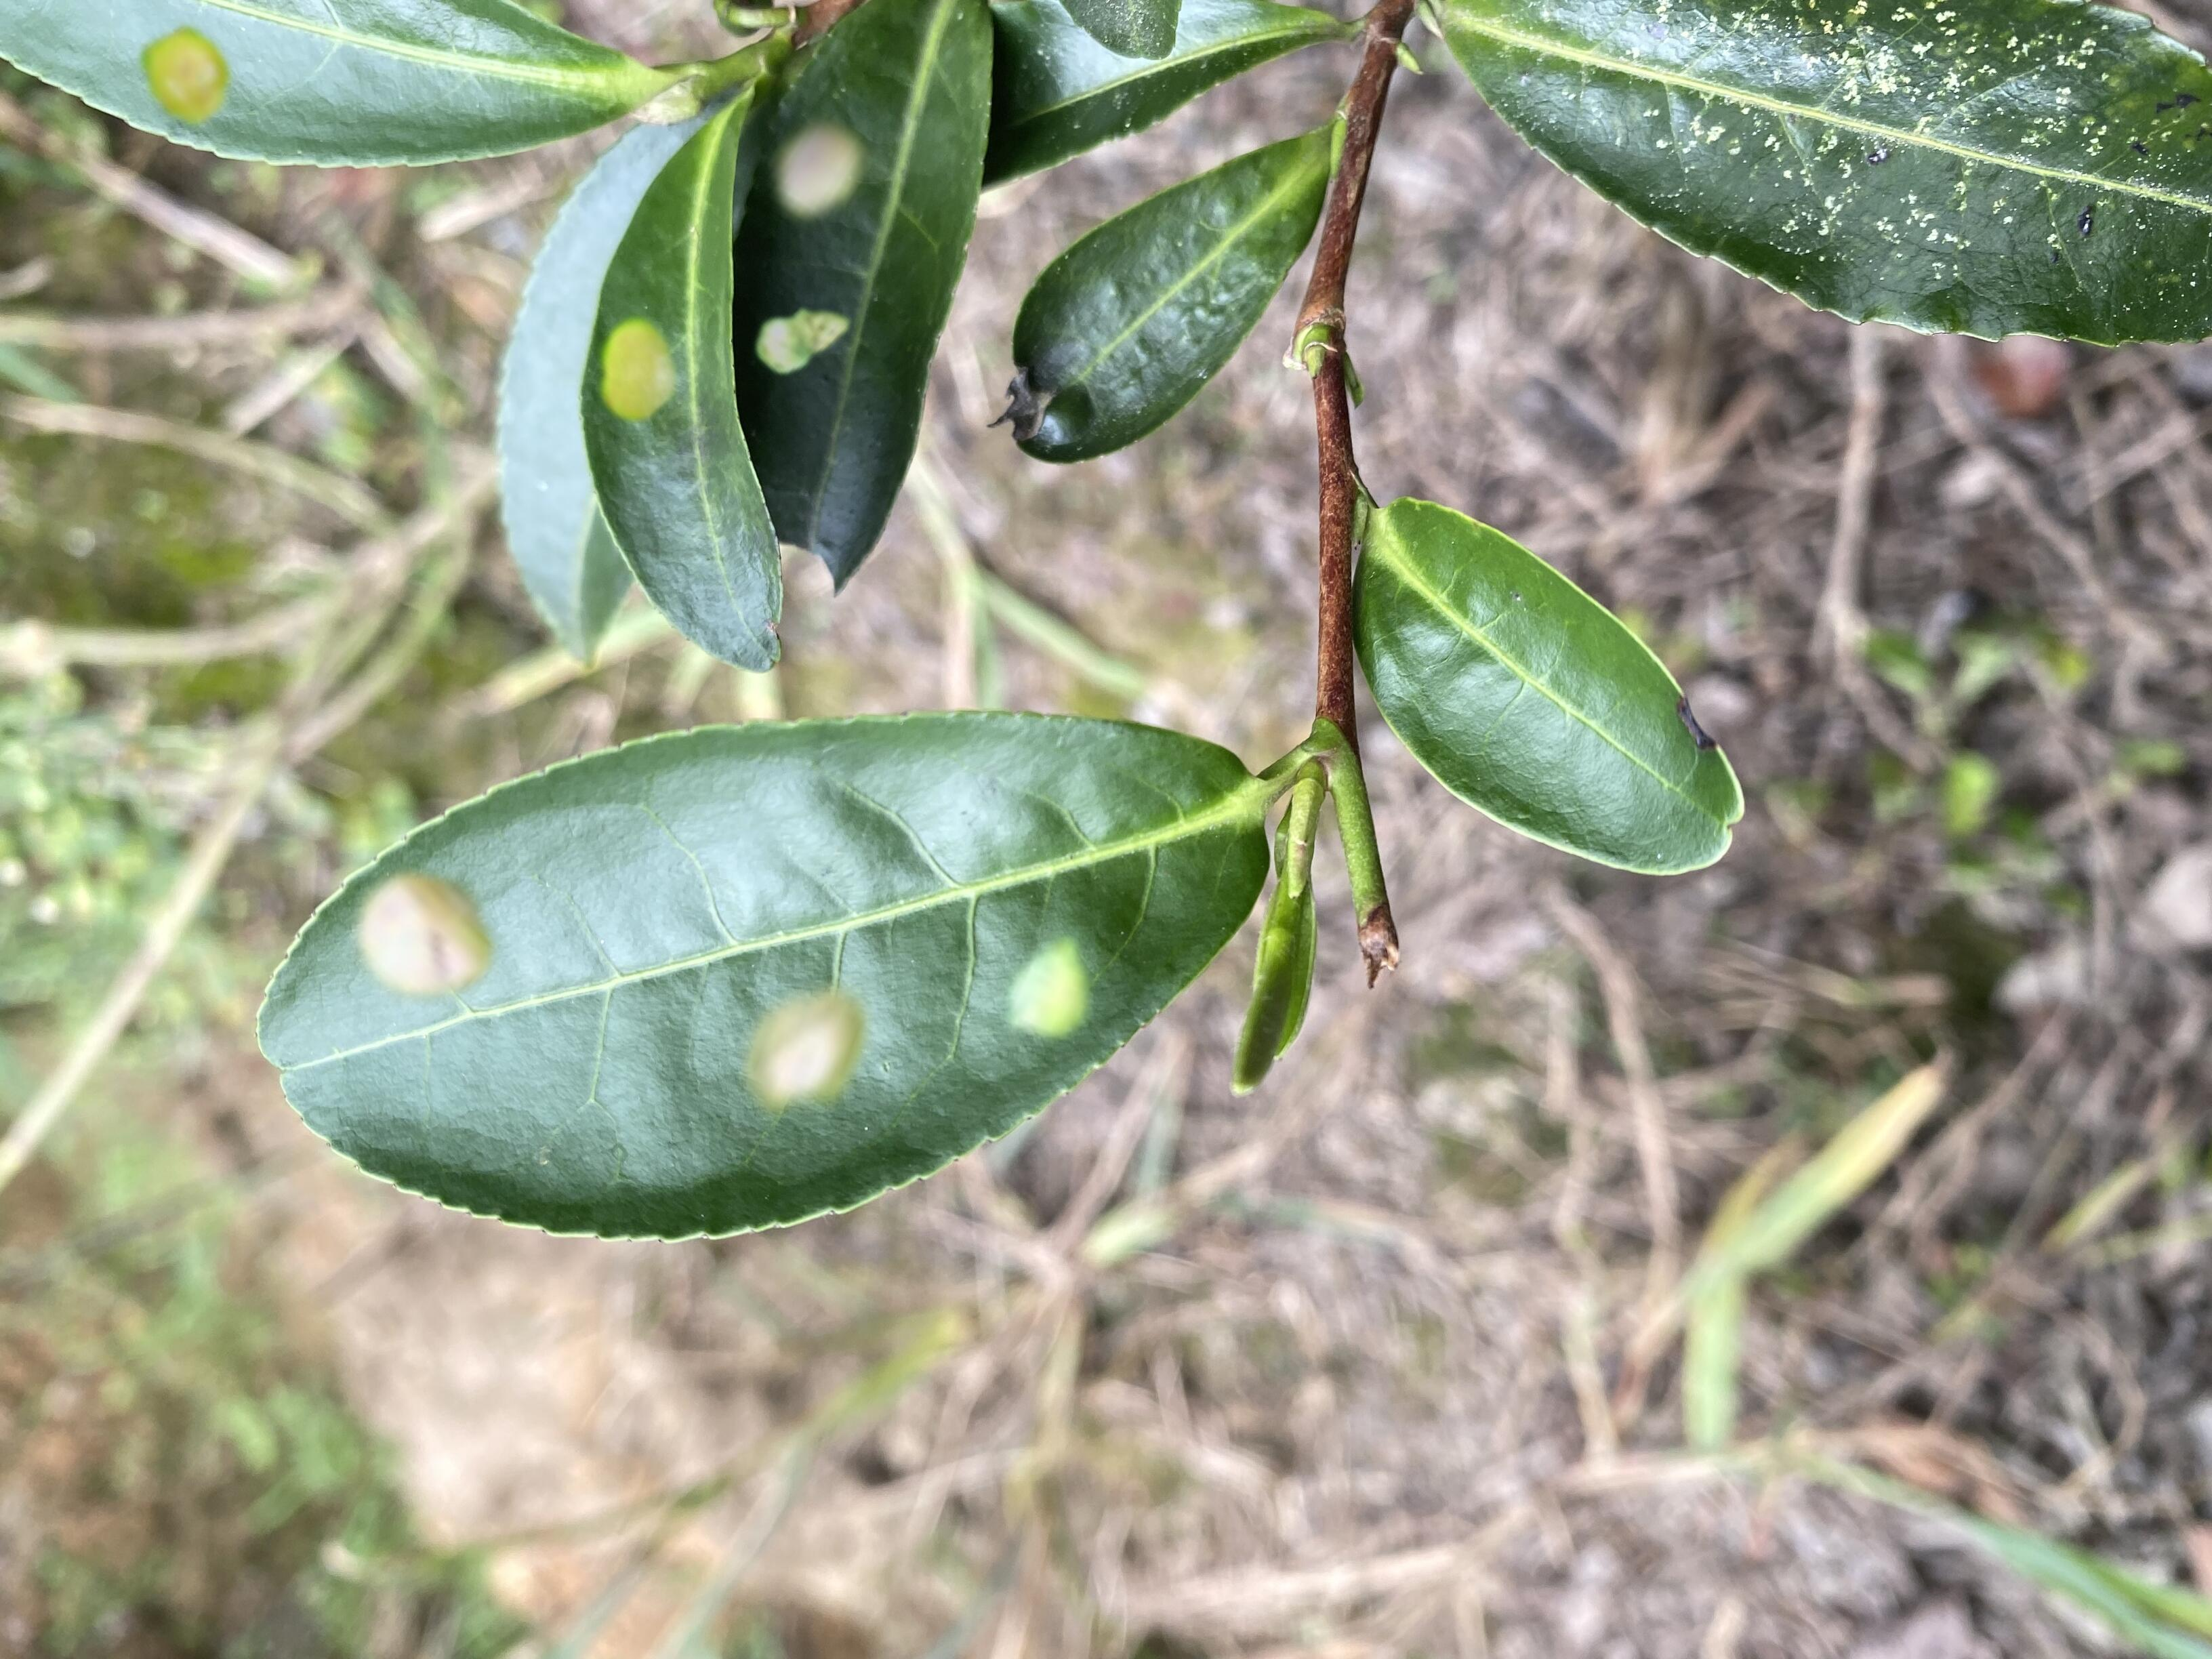chabing_high: (256, 711, 1271, 1243), (733, 3, 1000, 598)
chabing_low: (578, 96, 789, 671), (0, 0, 639, 167)
tanju_low: (1350, 497, 1747, 880)
